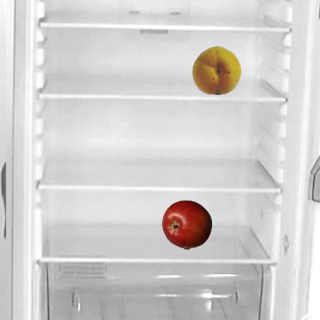Apple Braeburn: (161, 199, 211, 249)
Peach 2: (191, 44, 241, 94)
